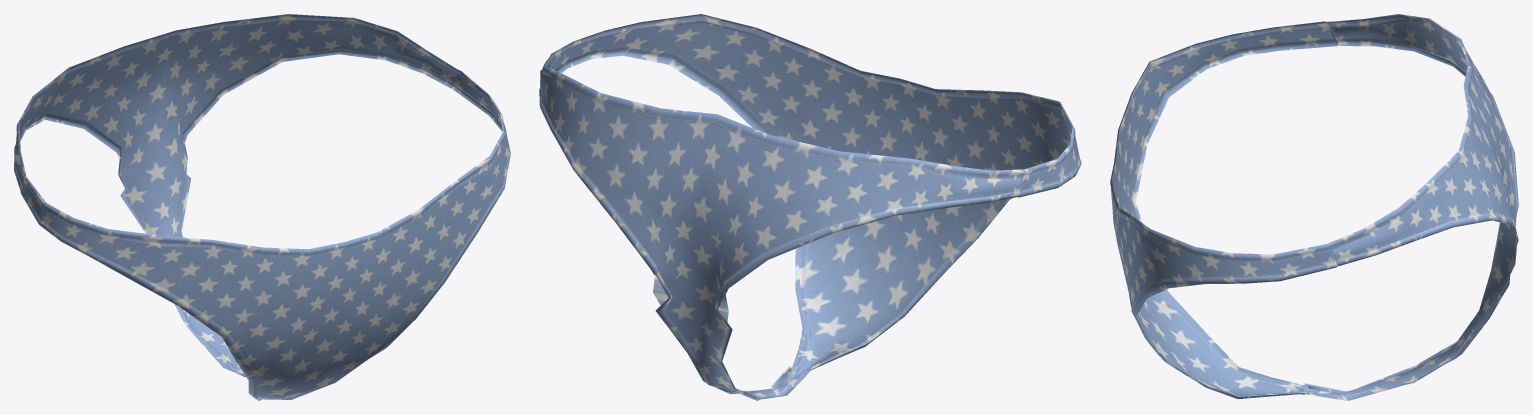
The model's file is wolgade-female-panties-01.glb.
3 views of the same model, side by side, from view 1: azimuth 30°, elevation 25°; view 2: azimuth 150°, elevation 25°; view 3: azimuth 270°, elevation 25° (orthographic). The views are drawn at different scales.
Parts seen in each view (by area): view 1: Human.wolgade_female_panties_01; view 2: Human.wolgade_female_panties_01; view 3: Human.wolgade_female_panties_01.
Part boxes in pixels (left/top/right/bottom): Human.wolgade_female_panties_01: left=14, top=14, right=510, bottom=400; Human.wolgade_female_panties_01: left=539, top=14, right=1081, bottom=400; Human.wolgade_female_panties_01: left=1110, top=14, right=1518, bottom=400.
Bounding box in the file's own units: 0.3165 × 0.1984 × 0.2351.
1 material, 1 textured.
